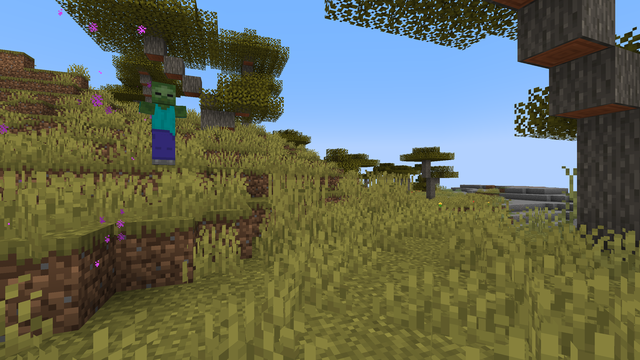zombies: (146, 82, 178, 165)
